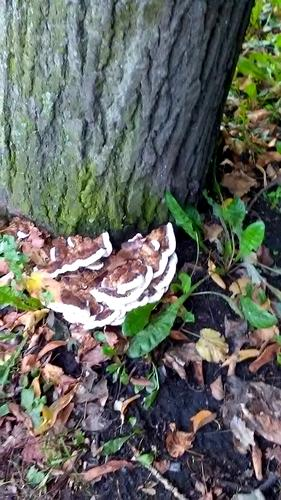Ganoderma - Fruit Body: (37, 220, 181, 330)
